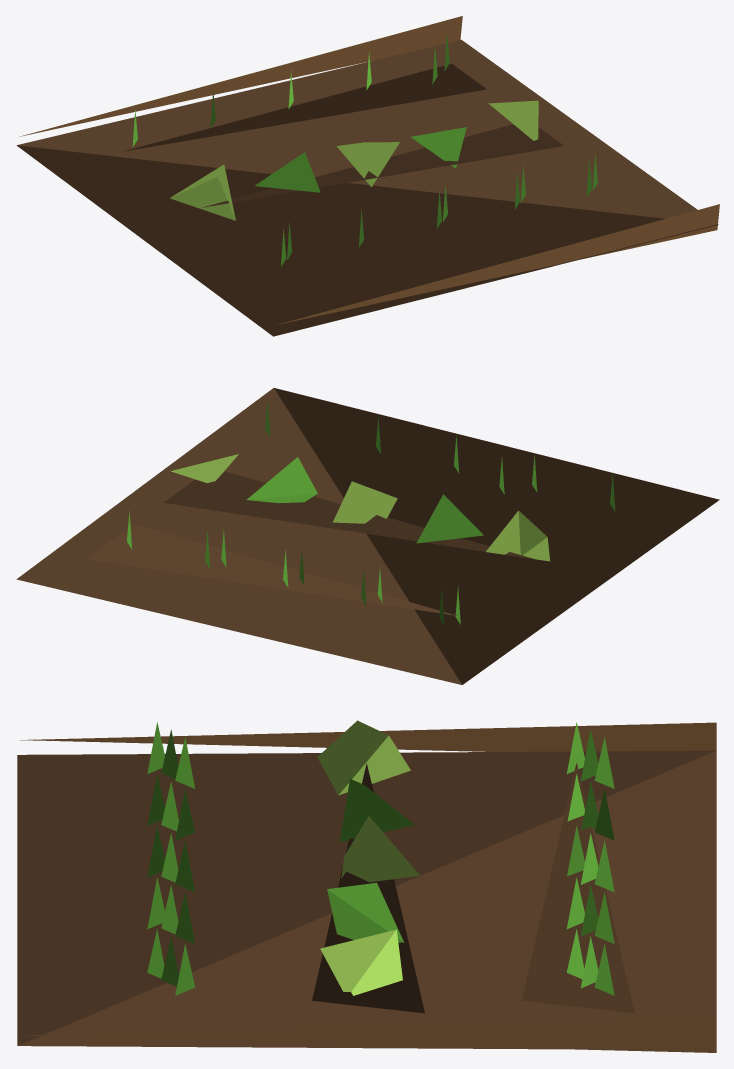
File: garden_plot_1_lod2.glb
3 renders of one model, top to bottom at view 1: azimuth 30°, elevation 25°; view 2: azimuth 150°, elevation 25°; view 3: azimuth 270°, elevation 25°, orthographic. The views are drawn at different scales.
Parts seen in each view (by area): view 1: garden_plot_1_lod2; view 2: garden_plot_1_lod2; view 3: garden_plot_1_lod2.
Boxes of the visible parts, bbox=[...] form: garden_plot_1_lod2: bbox=[16, 16, 719, 336]; garden_plot_1_lod2: bbox=[16, 388, 719, 684]; garden_plot_1_lod2: bbox=[17, 720, 716, 1052].
Bounding box in the file's own units: 4.04 × 0.5621 × 4.04.
